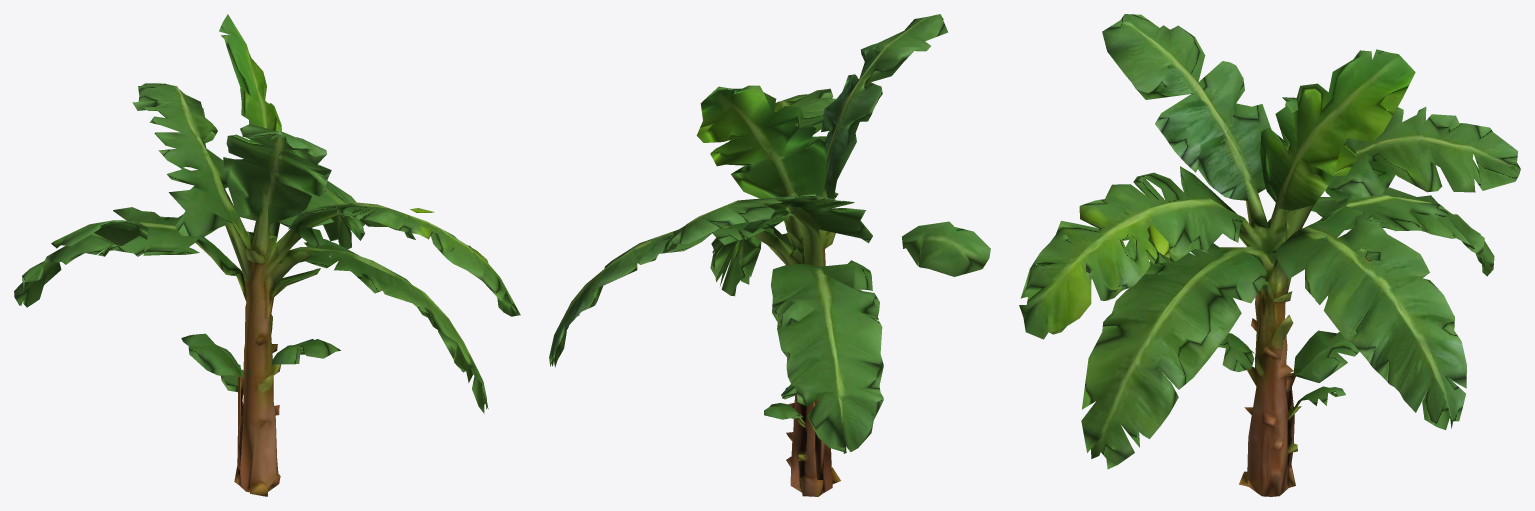
The model's file is banana.glb.
3 views of the same model, side by side, from view 1: azimuth 30°, elevation 25°; view 2: azimuth 150°, elevation 25°; view 3: azimuth 270°, elevation 25° (orthographic). The views are drawn at different scales.
Visible parts, largest first — view 1: tripo_node_82782c56-285d-4600-898b-9a869ac36fbf; view 2: tripo_node_82782c56-285d-4600-898b-9a869ac36fbf; view 3: tripo_node_82782c56-285d-4600-898b-9a869ac36fbf.
Part boxes in pixels (box(x1,y1,x2,y2)): tripo_node_82782c56-285d-4600-898b-9a869ac36fbf: box(14, 14, 520, 496); tripo_node_82782c56-285d-4600-898b-9a869ac36fbf: box(549, 14, 990, 496); tripo_node_82782c56-285d-4600-898b-9a869ac36fbf: box(1019, 14, 1520, 496).
Size of the model in its own units: 1.6 by 1.8 by 1.82.
1 material, 1 textured.
